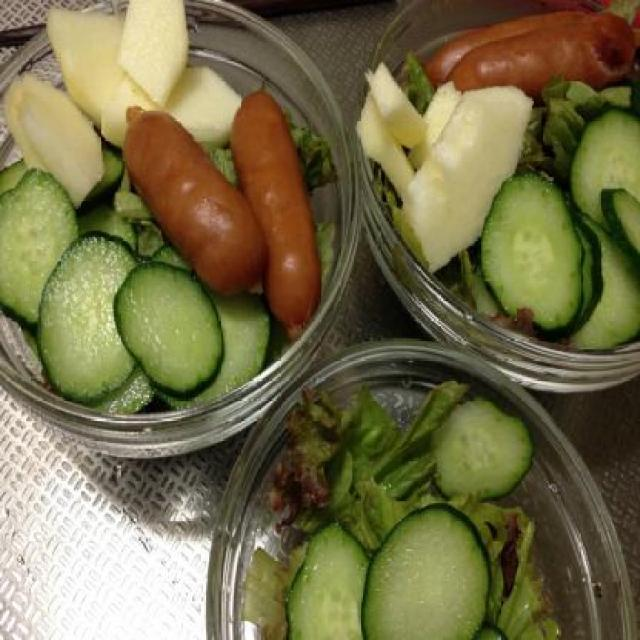Cucumber: (0, 152, 275, 419), (482, 106, 638, 351), (358, 502, 496, 638), (430, 400, 538, 502), (287, 519, 373, 639)
